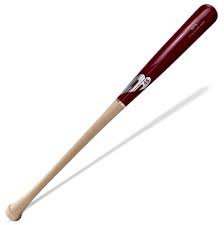baseball bat: (2, 2, 217, 221)
